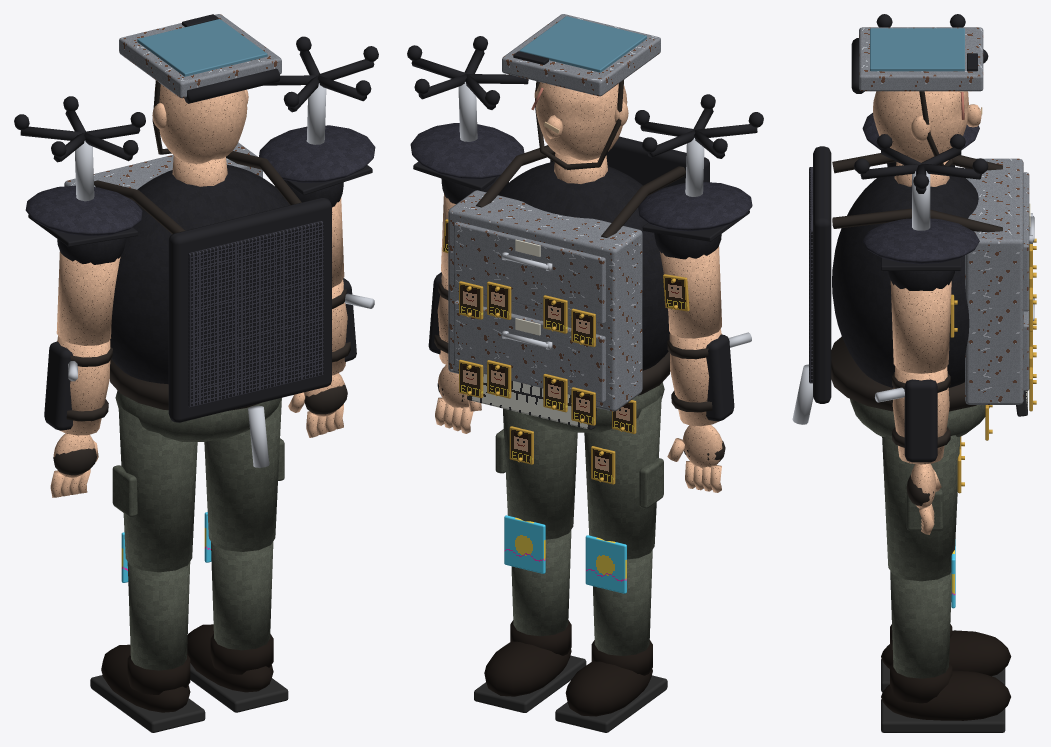
Rendered from c_eotm.glb.
The picture shows the model from 3 angles, left to right: view 1: azimuth 30°, elevation 25°; view 2: azimuth 150°, elevation 25°; view 3: azimuth 270°, elevation 25°; orthographic projection. The views are drawn at different scales.
Visible parts, largest first — view 1: part_spine, part_armL, part_head, part_kneeL, part_kneeR, part_arm, part_legL, part_legR, part_foreL, part_body, part_handL, part_handR (+1 smaller); view 2: part_spine, part_armL, part_head, part_kneeL, part_kneeR, part_arm, part_legL, part_legR, part_foreL, part_body, part_handL, part_handR (+1 smaller); view 3: part_spine, part_arm, part_head, part_kneeR, part_legR, part_foreR, part_body, part_kneeL, part_handR, part_armL.
Part boxes in pixels (box(x1,y1,x2,y2)): part_spine: box(64, 142, 331, 467); part_armL: box(14, 96, 145, 345); part_head: box(119, 14, 281, 163); part_kneeL: box(90, 532, 205, 732); part_kneeR: box(187, 512, 288, 712); part_arm: box(259, 36, 378, 287); part_legL: box(112, 404, 197, 572); part_legR: box(204, 398, 284, 551); part_foreL: box(44, 336, 112, 435); part_body: box(110, 359, 281, 441); part_handL: box(50, 433, 98, 497); part_handR: box(288, 373, 347, 437); part_spine: box(448, 136, 709, 425); part_armL: box(634, 94, 763, 338); part_head: box(502, 14, 660, 169); part_kneeL: box(555, 535, 667, 732); part_kneeR: box(474, 515, 586, 712); part_arm: box(407, 36, 528, 278); part_legL: box(584, 395, 663, 559); part_legR: box(495, 408, 577, 539); part_foreL: box(667, 328, 751, 426); part_body: box(467, 351, 670, 433); part_handL: box(667, 424, 725, 492); part_handR: box(435, 365, 481, 433); part_spine: box(792, 146, 1036, 424); part_arm: box(854, 134, 988, 373); part_head: box(851, 27, 983, 166); part_kneeR: box(881, 541, 1010, 732); part_legR: box(882, 435, 964, 581); part_foreR: box(875, 366, 950, 464); part_body: box(831, 336, 1027, 440); part_kneeL: box(881, 539, 1011, 692); part_handR: box(906, 463, 941, 534); part_armL: box(862, 14, 988, 166).
Bounding box in the file's own units: 1.08 × 1.97 × 0.6666.
Materials: 19 (9 with a texture image).
